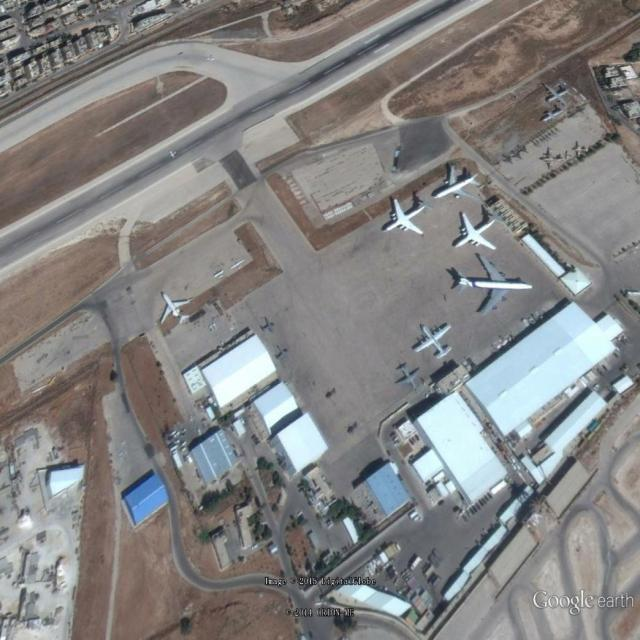aircraft: (445, 250, 538, 316), (451, 206, 514, 253), (382, 194, 440, 240), (432, 161, 487, 208), (411, 319, 457, 362), (159, 291, 196, 330), (542, 81, 576, 109), (395, 362, 424, 393), (543, 108, 567, 125), (230, 259, 247, 276), (205, 53, 219, 64), (214, 270, 225, 282), (169, 150, 180, 160)
